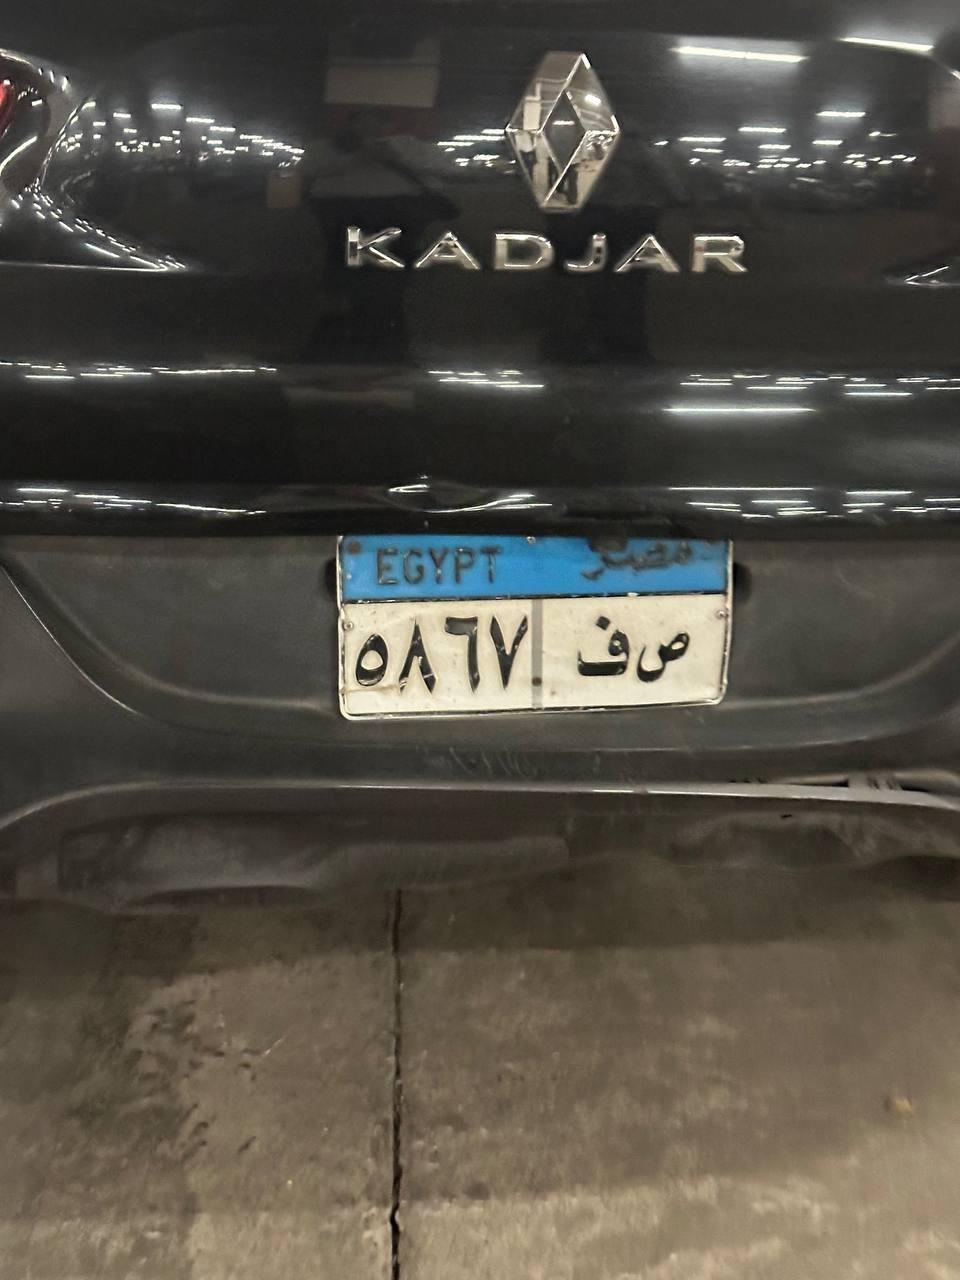5: (350, 627, 390, 693)
6: (439, 613, 482, 694)
7: (489, 618, 532, 682)
8: (396, 616, 444, 688)
F: (571, 618, 639, 680)
License Plate: (323, 516, 730, 716)
Saad: (626, 629, 704, 680)
